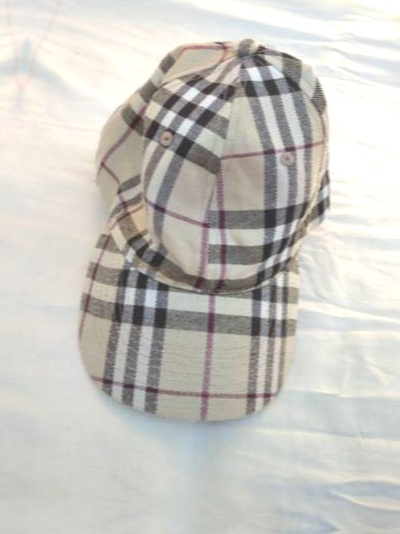Hat: (15, 15, 368, 451)
